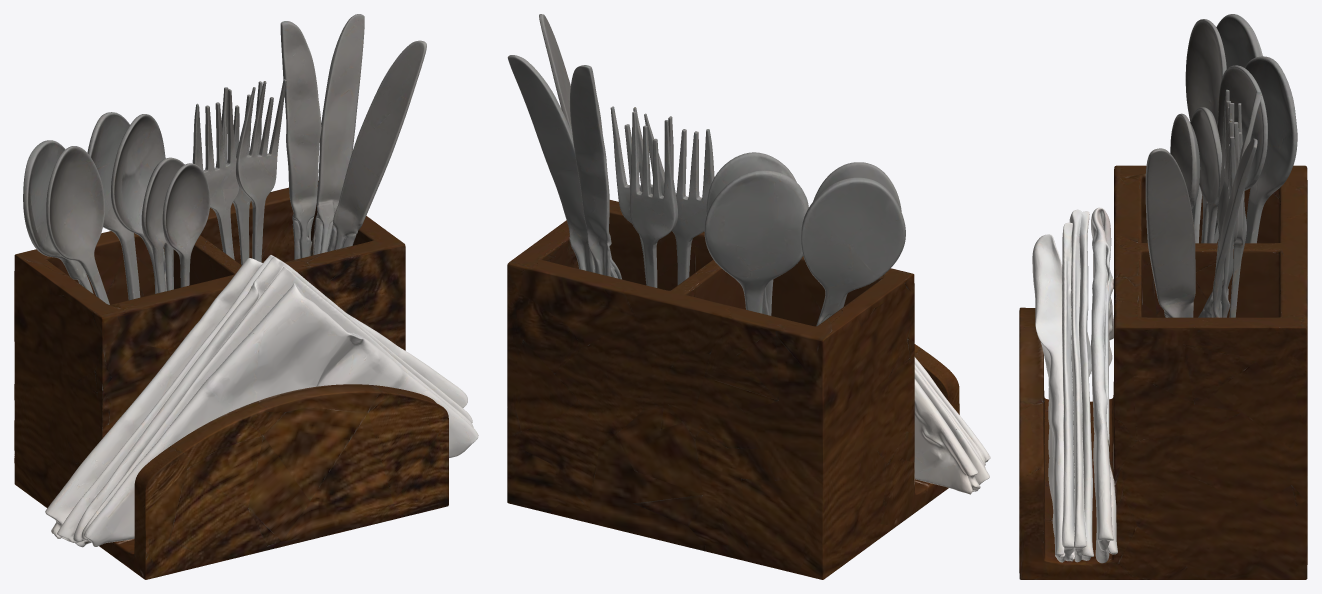
File: sk-handicrafts-wooden-cutlery-holder-for-dining-table-with-t.glb
3 renders of one model, left to right at view 1: azimuth 30°, elevation 25°; view 2: azimuth 150°, elevation 25°; view 3: azimuth 270°, elevation 25°, orthographic. The views are drawn at different scales.
Bounding box in the file's own units: 1.9 × 1.81 × 1.03.
Materials: 1 (1 with a texture image).
